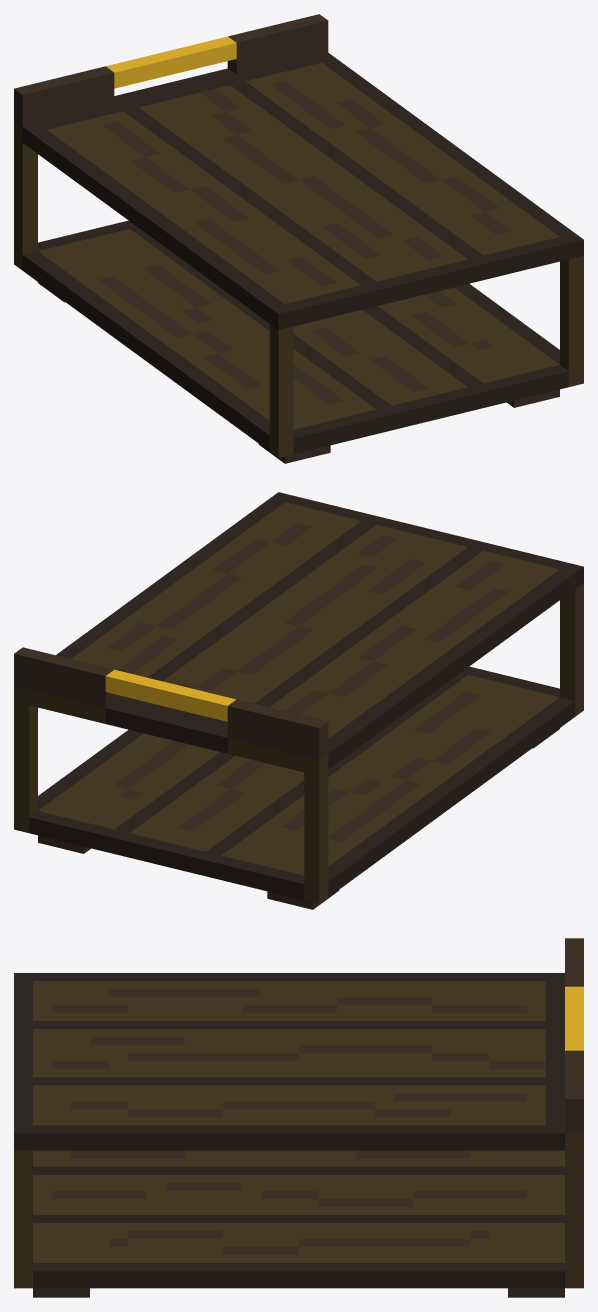
Rendered from slide_table.fbx.
The picture shows the model from 3 angles, top to bottom: view 1: azimuth 30°, elevation 25°; view 2: azimuth 150°, elevation 25°; view 3: azimuth 270°, elevation 25°; orthographic projection. The views are drawn at different scales.
Visible parts, largest first — view 1: slide_table:slide_table; view 2: slide_table:slide_table; view 3: slide_table:slide_table.
Part boxes in pixels (box(x1,y1,x2,y2)): slide_table:slide_table: box(14, 14, 583, 463); slide_table:slide_table: box(14, 492, 583, 909); slide_table:slide_table: box(14, 938, 583, 1297).
Size of the model in its own units: 20 by 12 by 30.
